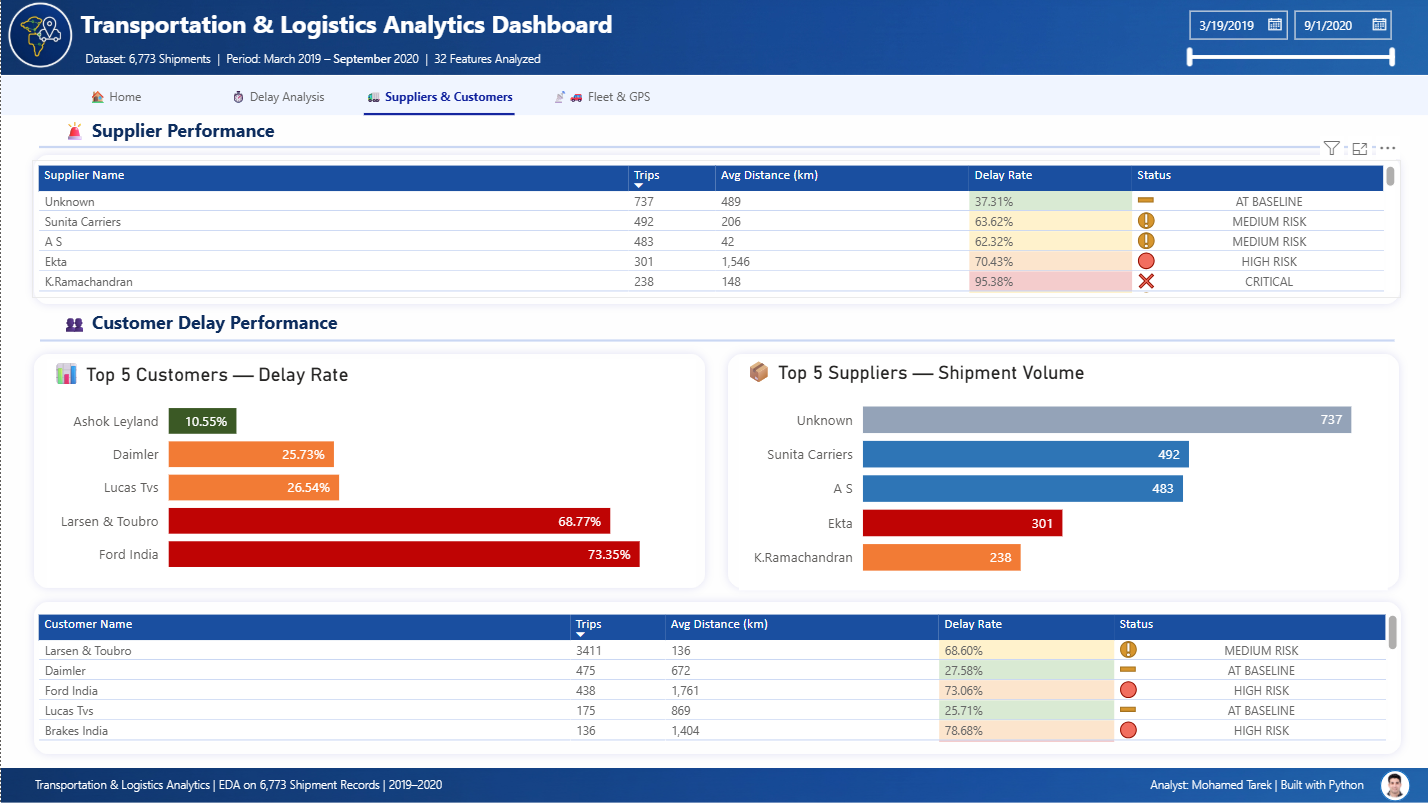

This screenshot's page, from the dashboard's own definition file:
{"tool":"powerbi","page":{"name":"🚛 Suppliers & Customers","canvas":[1280,720],"ordinal":2},"visuals":[{"type":"shape","box":[0,69.1,1280,35.1],"z":0},{"type":"shape","box":[21.5,131.5,1239.4,149.6],"z":1000},{"type":"image","box":[0,688.7,1279.7,31.3],"z":2000},{"type":"textbox","box":[23.3,688.7,378.8,31.3],"z":3000},{"type":"image","box":[0,0,1279.7,68.1],"z":4000},{"type":"shape","box":[13.4,9.7,45.7,43.9],"z":5000},{"type":"textbox","box":[66.3,2.7,598.2,51],"z":6000},{"type":"textbox","box":[978.2,689.1,293.6,30.9],"z":8000},{"type":"shape","box":[1234.5,690,27.3,28.2],"z":9000},{"type":"image","box":[1225.7,688.6,44.3,31.4],"z":10000},{"type":"textbox","box":[50.1,101.2,280.3,33.1],"z":11000},{"type":"shape","box":[34,126.3,1213.4,12.5],"z":12000},{"type":"tableEx","fields":{"Values":["logistics_cleaned.supplierNameCode","_Measures.Total Shipments","Avg(logistics_cleaned.TRANSPORTATION_DISTANCE_IN_KM)","_Measures.Delay Rate %","_Measures.Supplier Status"]},"box":[27.6,144.3,1226.3,123.9],"z":13000},{"type":"shape","box":[21.5,309.7,617,225.7],"z":14000},{"type":"shape","box":[643,309.7,617,225.7],"z":15000},{"type":"shape","box":[34.9,299.1,1213.4,13.4],"z":16000},{"type":"textbox","box":[50.1,273.1,326,36.7],"z":17000},{"type":"shape","box":[21.5,531.9,1240.3,152.2],"z":18000},{"type":"barChart","title":"📊 Top 5 Customers — Delay Rate","fields":{"Category":["logistics_cleaned.customerNameCode"],"Y":["_Measures.Delay Rate %"]},"box":[40.8,322.6,581.3,204],"z":19000},{"type":"barChart","title":"📦 Top 5 Suppliers — Shipment Volume","fields":{"Category":["logistics_cleaned.supplierNameCode"],"Y":["_Measures.Total Shipments"]},"box":[660.5,320.4,581.3,209.5],"z":20000},{"type":"tableEx","fields":{"Values":["logistics_cleaned.customerNameCode","_Measures.Total Shipments","Avg(logistics_cleaned.TRANSPORTATION_DISTANCE_IN_KM)","_Measures.Delay Rate %","_Measures.Supplier Status"]},"box":[28.1,546,1228.4,123.9],"z":21000},{"type":"pageNavigator","title":"📊 Overview","box":[34.7,68,571.3,36],"z":22000},{"type":"image","box":[1.7,0,66.7,67.5],"z":23000},{"type":"slicer","fields":{"Values":["Calendar_Table.Date"]},"box":[1051.3,5.3,210,63.3],"z":24000},{"type":"textbox","box":[70.7,38.5,440.6,34],"z":24001}]}

Visuals, with their boxes in screenshot pixels (x1, y1, x2, y2), scaled from the page's 1280x720 canvas onto the 1428x803 screenshot:
shape: (left=0, top=77, right=1427, bottom=116)
shape: (left=24, top=147, right=1407, bottom=314)
image: (left=0, top=768, right=1427, bottom=802)
textbox: (left=26, top=768, right=449, bottom=802)
image: (left=0, top=0, right=1427, bottom=76)
shape: (left=15, top=11, right=66, bottom=60)
textbox: (left=74, top=3, right=741, bottom=60)
textbox: (left=1091, top=769, right=1419, bottom=802)
shape: (left=1377, top=770, right=1408, bottom=801)
image: (left=1367, top=768, right=1417, bottom=802)
textbox: (left=56, top=113, right=369, bottom=150)
shape: (left=38, top=141, right=1392, bottom=155)
tableEx - logistics_cleaned.supplierNameCode x _Measures.Total Shipments: (left=31, top=161, right=1399, bottom=299)
shape: (left=24, top=345, right=712, bottom=597)
shape: (left=717, top=345, right=1406, bottom=597)
shape: (left=39, top=334, right=1393, bottom=349)
textbox: (left=56, top=305, right=420, bottom=346)
shape: (left=24, top=593, right=1408, bottom=763)
"📊 Top 5 Customers — Delay Rate" barChart: (left=46, top=360, right=694, bottom=587)
"📦 Top 5 Suppliers — Shipment Volume" barChart: (left=737, top=357, right=1385, bottom=591)
tableEx - logistics_cleaned.customerNameCode x _Measures.Total Shipments: (left=31, top=609, right=1402, bottom=747)
"📊 Overview" pageNavigator: (left=39, top=76, right=676, bottom=116)
image: (left=2, top=0, right=76, bottom=75)
slicer - Calendar_Table.Date: (left=1173, top=6, right=1407, bottom=77)
textbox: (left=79, top=43, right=570, bottom=81)
